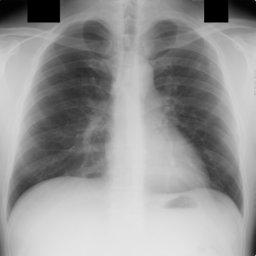leftlobe: (148, 20, 243, 210)
right lobe: (11, 21, 114, 210)
